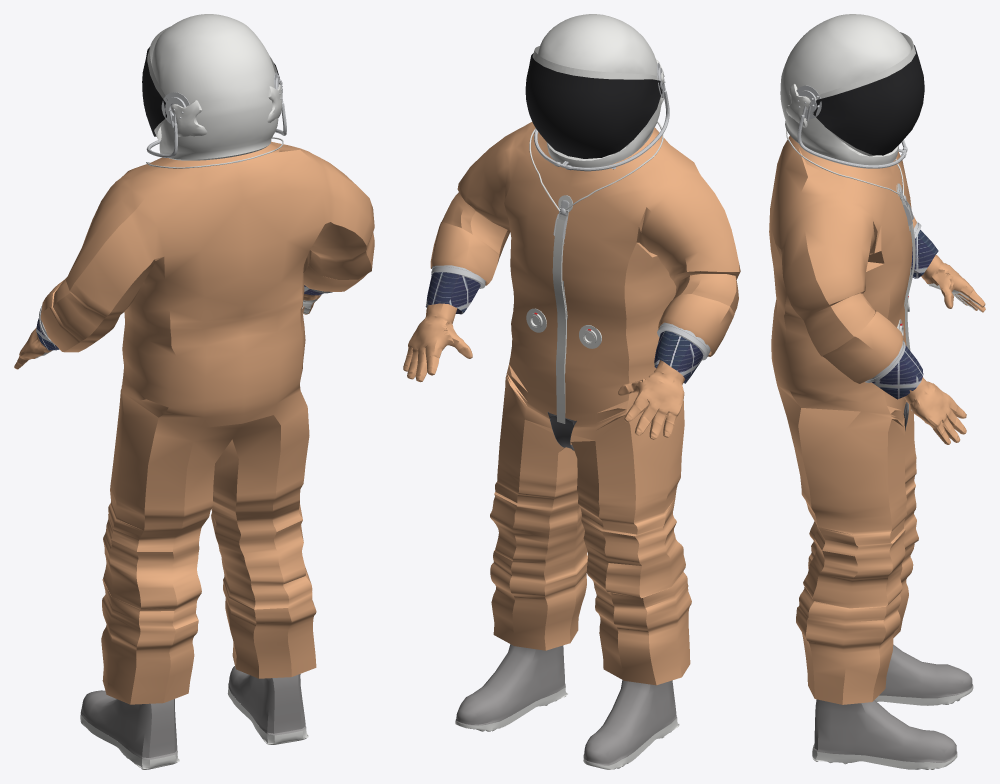
The model's file is aces-suit.glb.
3 renders of one model, left to right at view 1: azimuth 30°, elevation 25°; view 2: azimuth 150°, elevation 25°; view 3: azimuth 270°, elevation 25°, orthographic. The views are drawn at different scales.
Visible parts, largest first — view 1: Advanced Crew Escape Suit; view 2: Advanced Crew Escape Suit; view 3: Advanced Crew Escape Suit.
Boxes of the visible parts, x1,y1,x2,y2 form: Advanced Crew Escape Suit: [14, 14, 374, 769]; Advanced Crew Escape Suit: [403, 14, 740, 769]; Advanced Crew Escape Suit: [769, 14, 985, 769].
Size of the model in its own units: 0.8871 by 2 by 0.5548.
Materials: 8 (1 with a texture image).
